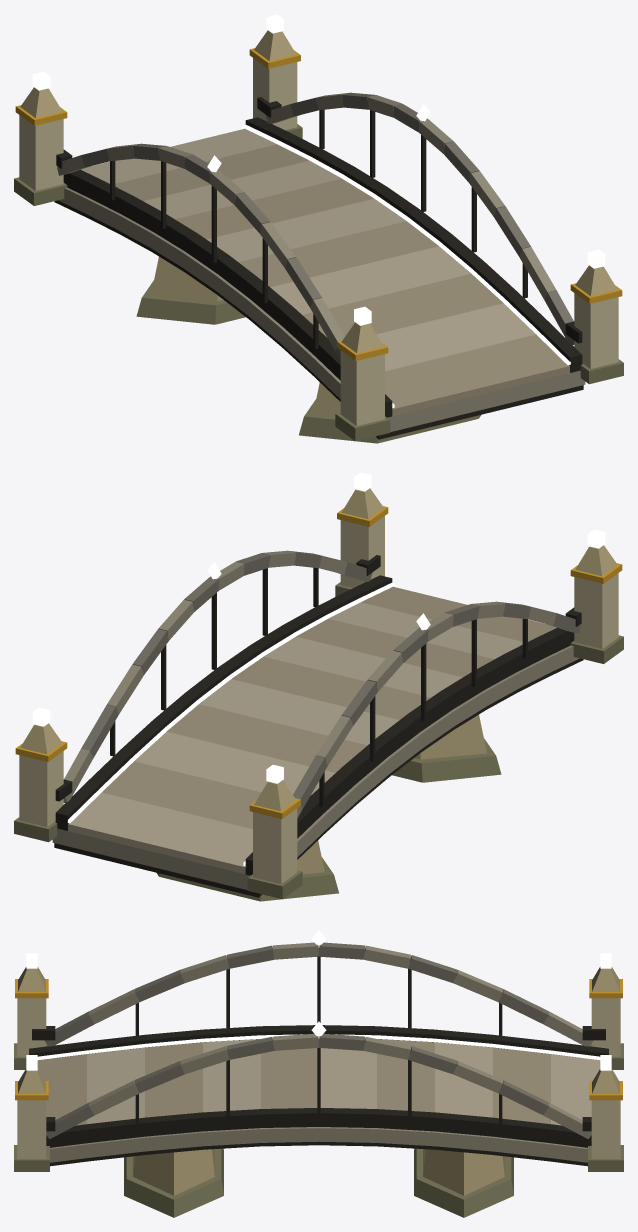
The model's file is bridge_span.glb.
3 views of the same model, one above another, from view 1: azimuth 30°, elevation 25°; view 2: azimuth 150°, elevation 25°; view 3: azimuth 270°, elevation 25° (orthographic). The views are drawn at different scales.
Visible parts, largest first — view 1: body, glow; view 2: body, glow; view 3: body, glow.
Boxes of the visible parts, box(x1,y1,x2,y2) form: body: box(14, 30, 623, 443); glow: box(32, 14, 605, 407); body: box(14, 488, 623, 901); glow: box(32, 472, 605, 865); body: box(14, 942, 623, 1217); glow: box(26, 930, 611, 1070).
Bounding box in the file's own units: 4.78 × 3.77 × 10.52.
